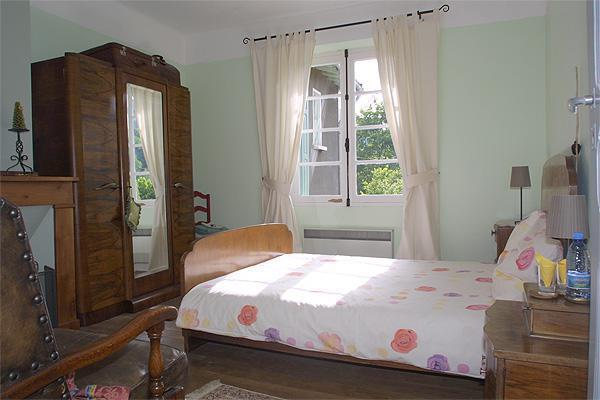Armario: (71, 53, 190, 303)
Cama: (182, 150, 587, 383)
Otro Obstaculo: (302, 225, 395, 260)
Ventana: (285, 57, 418, 202)
